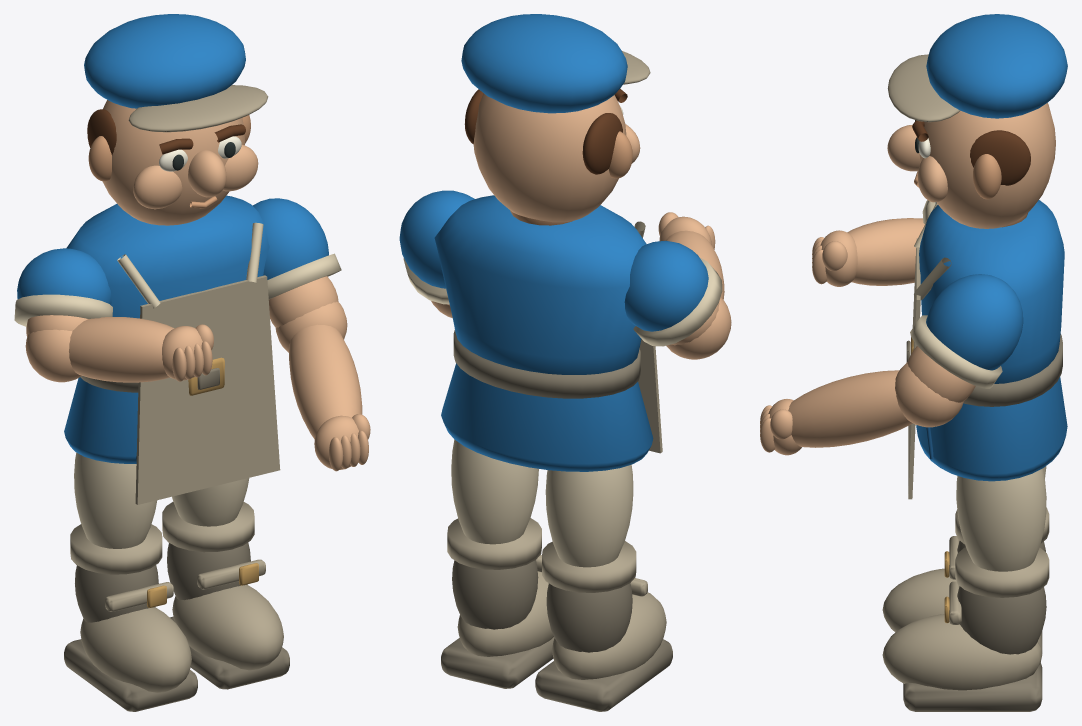
The model's file is bouwer_timmeren.glb.
3 renders of one model, left to right at view 1: azimuth 30°, elevation 25°; view 2: azimuth 150°, elevation 25°; view 3: azimuth 270°, elevation 25°, orthographic. The views are drawn at different scales.
Parts seen in each view (by area): view 1: Felt_work_apron.003, Tunic_torso.010, Work_cap.001, Boot_toe.020, Boot_toe.021, Head.010, Left_Forearm.010, Right_Forearm.010, Trouser_leg.020, Tunic_skirt.010, Left_Sleeve.010, Cap_small_brim.001 (+25 smaller); view 2: Tunic_torso.010, Tunic_skirt.010, Work_cap.001, Head.010, Trouser_leg.020, Trouser_leg.021, Right_Sleeve.010, Boot_shaft.020, Boot_shaft.021, Belt.010, Boot_toe.020, Boot_sole.020 (+15 smaller); view 3: Tunic_torso.010, Work_cap.001, Tunic_skirt.010, Head.010, Boot_toe.021, Trouser_leg.021, Left_Forearm.010, Left_Sleeve.010, Boot_shaft.021, Right_Forearm.010, Boot_sole.021, Boot_cuff.021 (+16 smaller).
Boxes of the visible parts, x1=… form: Felt_work_apron.003: x1=135, y1=275, x2=280, y2=504; Tunic_torso.010: x1=66, y1=195, x2=269, y2=318; Work_cap.001: x1=84, y1=14, x2=245, y2=108; Boot_toe.020: x1=80, y1=607, x2=191, y2=692; Boot_toe.021: x1=172, y1=585, x2=283, y2=670; Head.010: x1=102, y1=100, x2=245, y2=225; Left_Forearm.010: x1=289, y1=324, x2=362, y2=438; Right_Forearm.010: x1=69, y1=317, x2=174, y2=382; Trouser_leg.020: x1=74, y1=452, x2=157, y2=548; Tunic_skirt.010: x1=64, y1=377, x2=138, y2=463; Left_Sleeve.010: x1=252, y1=198, x2=328, y2=279; Cap_small_brim.001: x1=128, y1=85, x2=268, y2=132; Tunic_torso.010: x1=434, y1=195, x2=646, y2=374; Tunic_skirt.010: x1=441, y1=363, x2=653, y2=471; Work_cap.001: x1=461, y1=14, x2=627, y2=113; Head.010: x1=473, y1=93, x2=626, y2=222; Trouser_leg.020: x1=545, y1=464, x2=633, y2=567; Trouser_leg.021: x1=451, y1=439, x2=538, y2=544; Right_Sleeve.010: x1=624, y1=240, x2=708, y2=331; Boot_shaft.020: x1=546, y1=583, x2=632, y2=652; Boot_shaft.021: x1=452, y1=560, x2=538, y2=629; Belt.010: x1=453, y1=330, x2=640, y2=398; Boot_toe.020: x1=552, y1=592, x2=666, y2=679; Boot_sole.020: x1=535, y1=639, x2=672, y2=711; Tunic_torso.010: x1=919, y1=200, x2=1064, y2=383; Work_cap.001: x1=926, y1=14, x2=1067, y2=118; Tunic_skirt.010: x1=916, y1=376, x2=1067, y2=481; Head.010: x1=919, y1=103, x2=1055, y2=228; Boot_toe.021: x1=882, y1=614, x2=1042, y2=690; Trouser_leg.021: x1=956, y1=468, x2=1046, y2=571; Left_Forearm.010: x1=788, y1=370, x2=912, y2=447; Left_Sleeve.010: x1=926, y1=274, x2=1023, y2=370; Boot_shaft.021: x1=957, y1=586, x2=1046, y2=654; Right_Forearm.010: x1=847, y1=218, x2=924, y2=285; Boot_sole.021: x1=903, y1=662, x2=1042, y2=711; Boot_cuff.021: x1=955, y1=547, x2=1049, y2=597.
Size of the model in its own units: 1.03 by 2.06 by 0.887.
